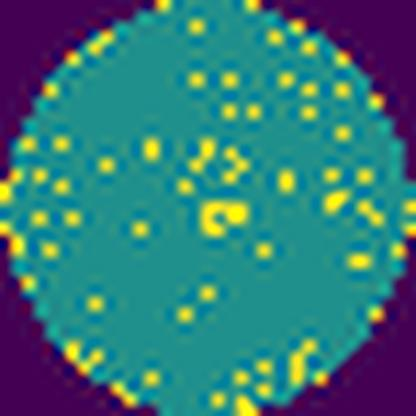Center: (192, 192, 260, 240)
